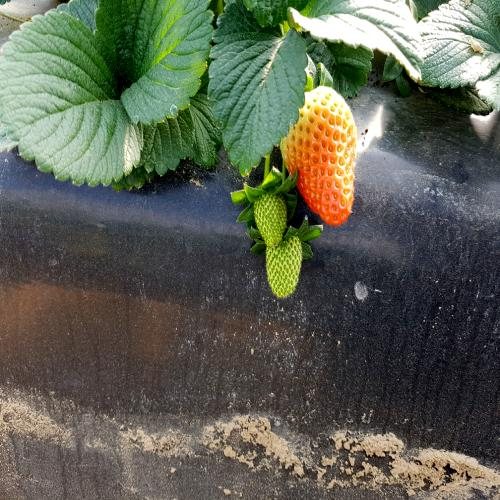partially-ripe: (277, 81, 363, 230)
